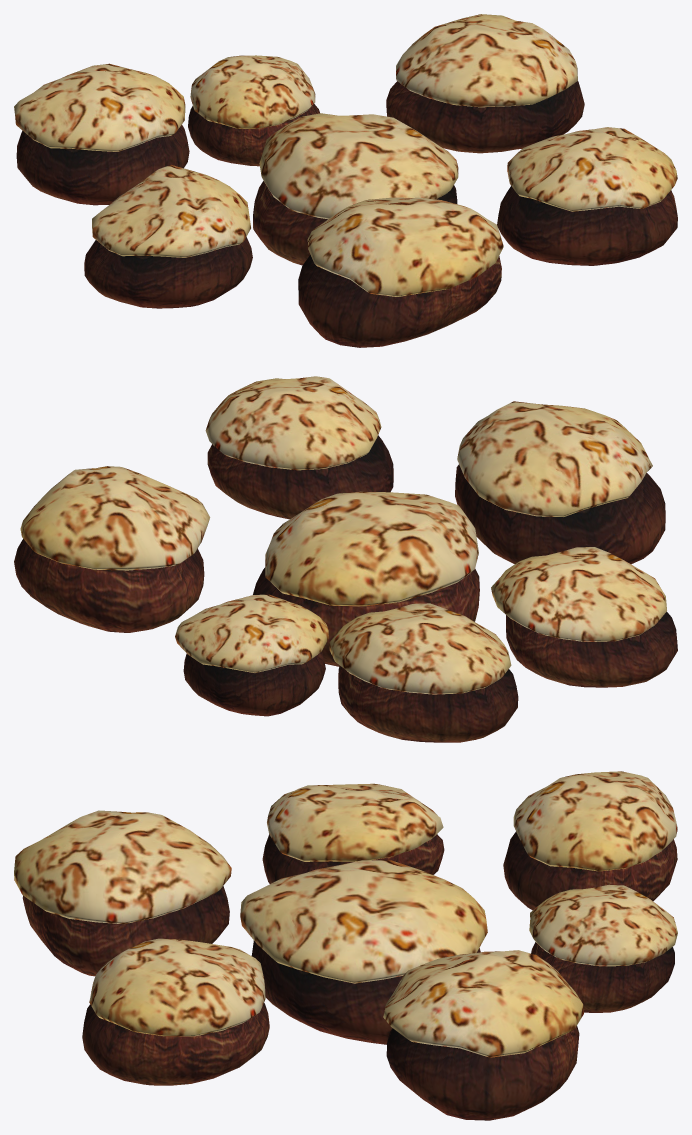
File: CrabMushrooms.fbx
3 views of the same model, one above another, from view 1: azimuth 30°, elevation 25°; view 2: azimuth 150°, elevation 25°; view 3: azimuth 270°, elevation 25° (orthographic). The views are drawn at different scales.
Parts seen in each view (by area): view 1: Mushrooms; view 2: Mushrooms; view 3: Mushrooms.
Boxes of the visible parts, bbox=[...] form: Mushrooms: bbox=[14, 14, 677, 347]; Mushrooms: bbox=[14, 376, 677, 742]; Mushrooms: bbox=[14, 771, 677, 1120].
Bounding box in the file's own units: 0.3697 × 0.0946 × 0.3511.
1 material, 1 textured.
